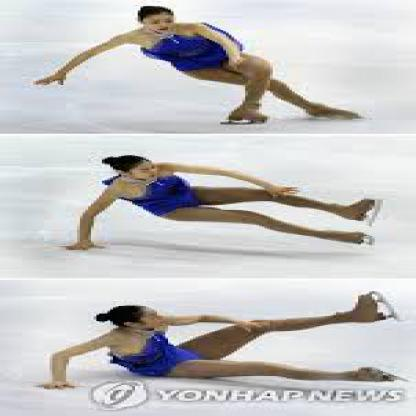Fall_Down: (32, 290, 406, 392)
